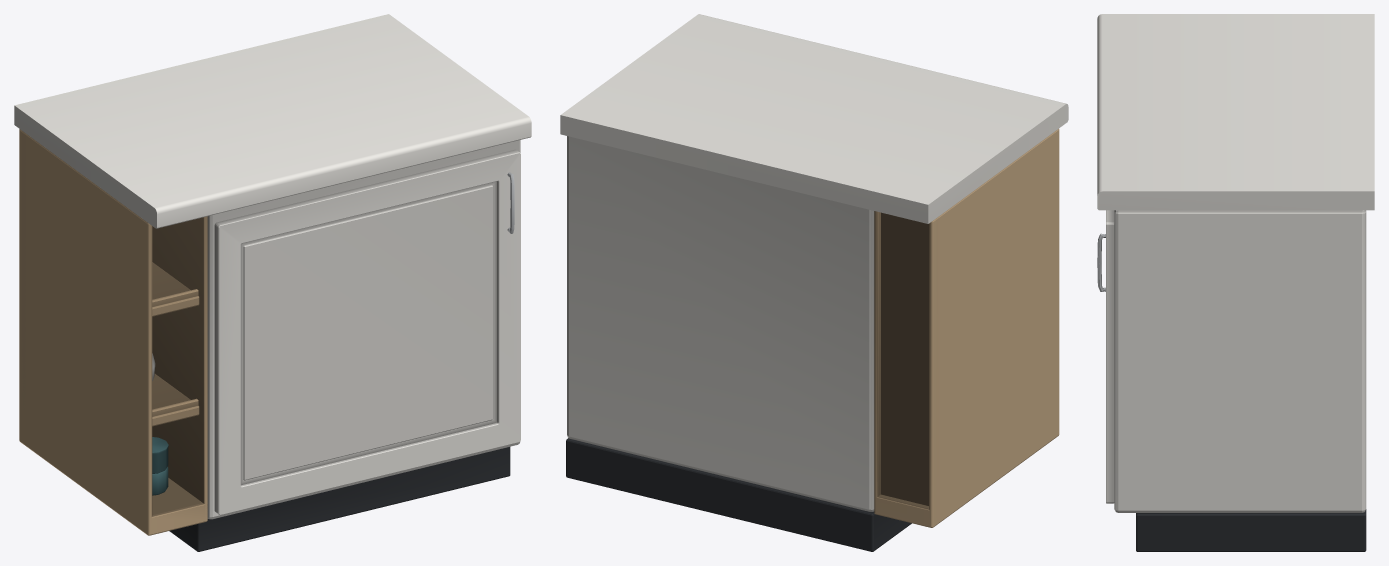
File: counterEnd.glb
The picture shows the model from 3 angles, left to right: view 1: azimuth 30°, elevation 25°; view 2: azimuth 150°, elevation 25°; view 3: azimuth 270°, elevation 25°; orthographic projection. The views are drawn at different scales.
Visible parts, largest first — view 1: body; view 2: body; view 3: body.
Boxes of the visible parts, x1,y1,x2,y2 form: body: (14,14,531,551); body: (560,14,1068,551); body: (1097,14,1374,551).
Bounding box in the file's own units: 1 × 0.95 × 0.6602.
